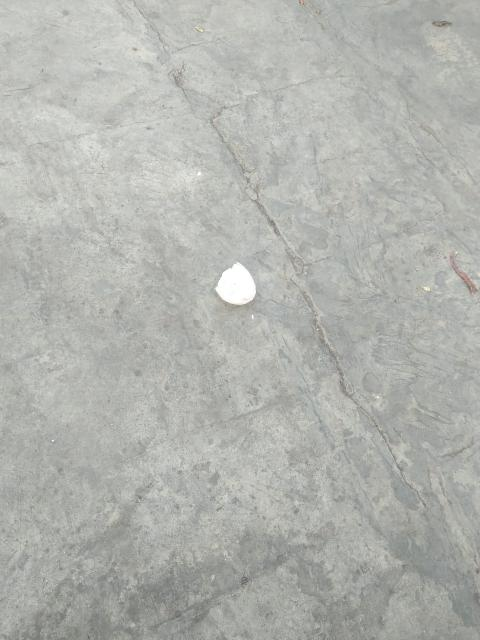Roto: (214, 261, 256, 306)
